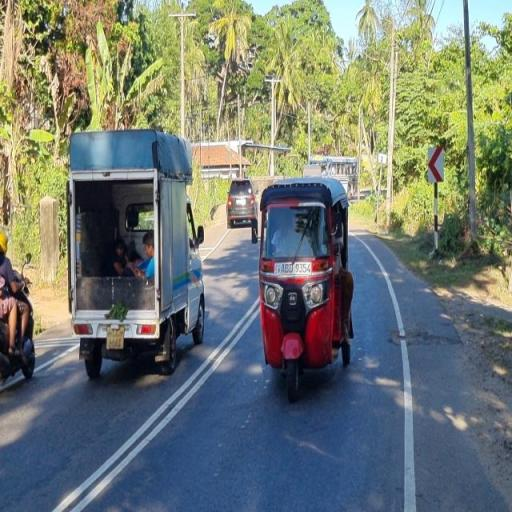double_white_line: (54, 300, 259, 511)
